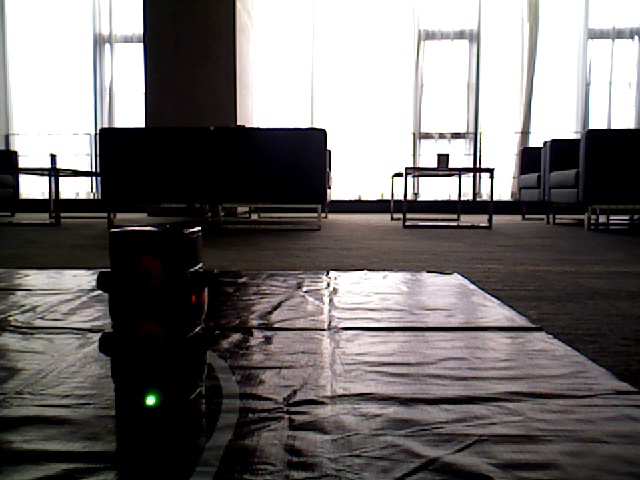green: (121, 228, 195, 424)
